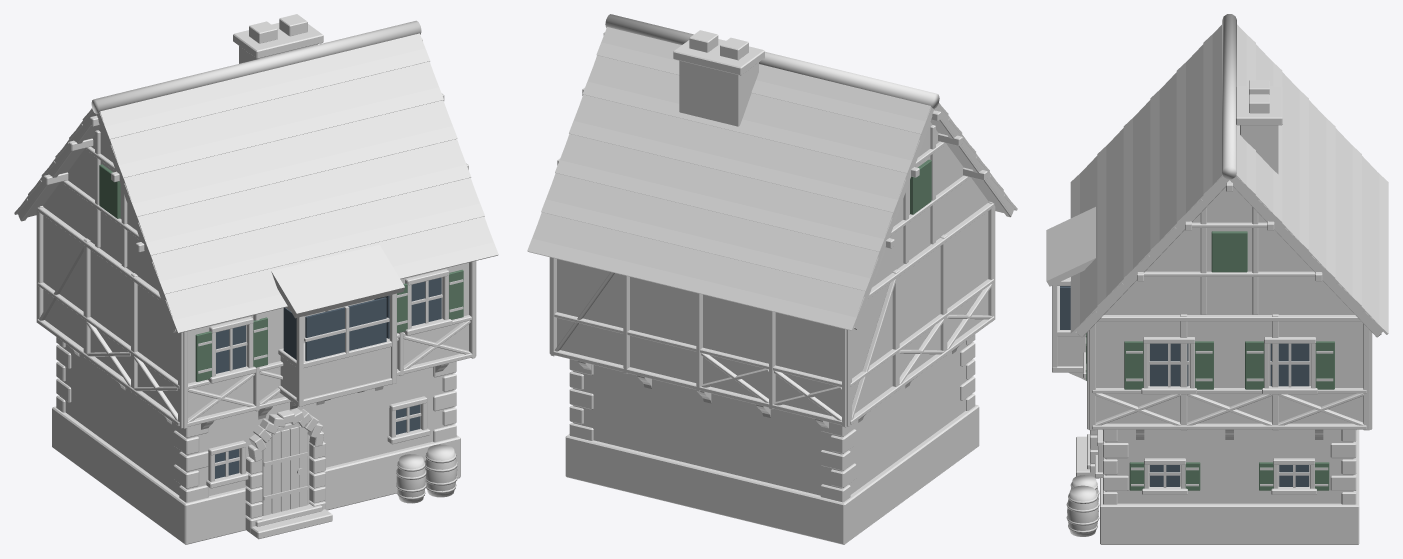
Rendered from col_02_alsacienne_ocre.fbx.
3 views of the same model, side by side, from view 1: azimuth 30°, elevation 25°; view 2: azimuth 150°, elevation 25°; view 3: azimuth 270°, elevation 25° (orthographic). The views are drawn at different scales.
Parts seen in each view (by area): view 1: col_02_alsacienne_ocre_LOD0; view 2: col_02_alsacienne_ocre_LOD0; view 3: col_02_alsacienne_ocre_LOD0.
Boxes of the visible parts, <box> form: col_02_alsacienne_ocre_LOD0: <box>14,14,498,544</box>; col_02_alsacienne_ocre_LOD0: <box>527,14,1017,544</box>; col_02_alsacienne_ocre_LOD0: <box>1046,14,1388,544</box>.
Size of what is drawn, in the model's own units: 7.44 by 9.02 by 6.88.
